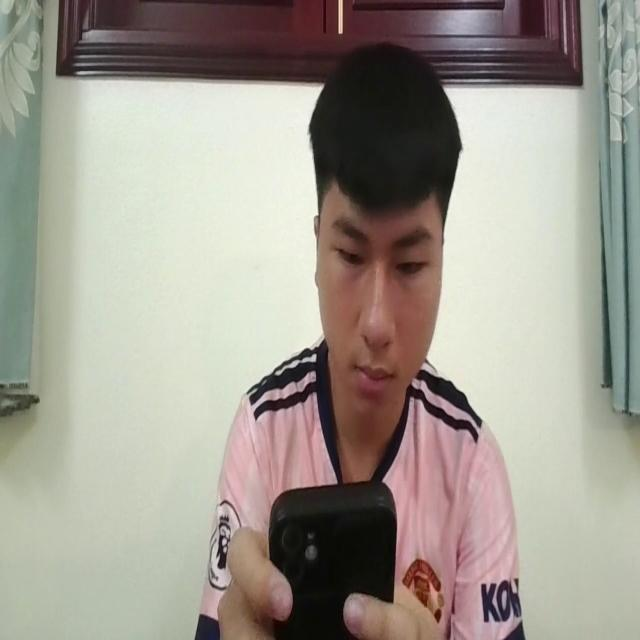phone: (268, 471, 398, 640)
student: (186, 39, 524, 640)
